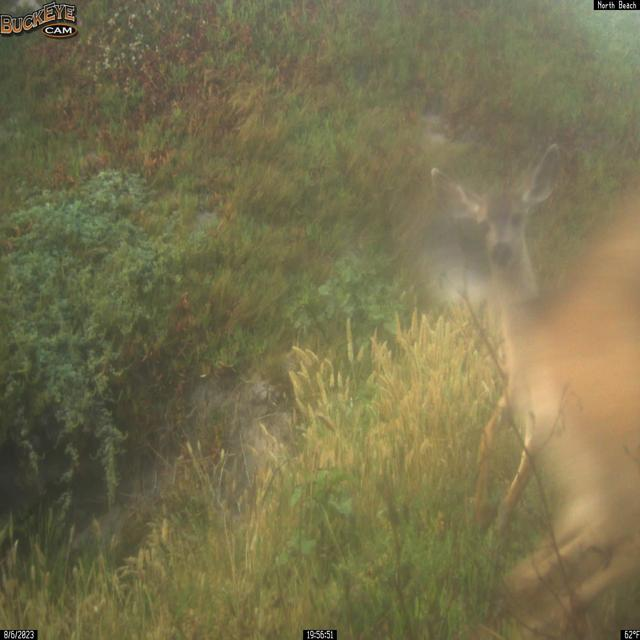deer: (430, 142, 640, 638)
